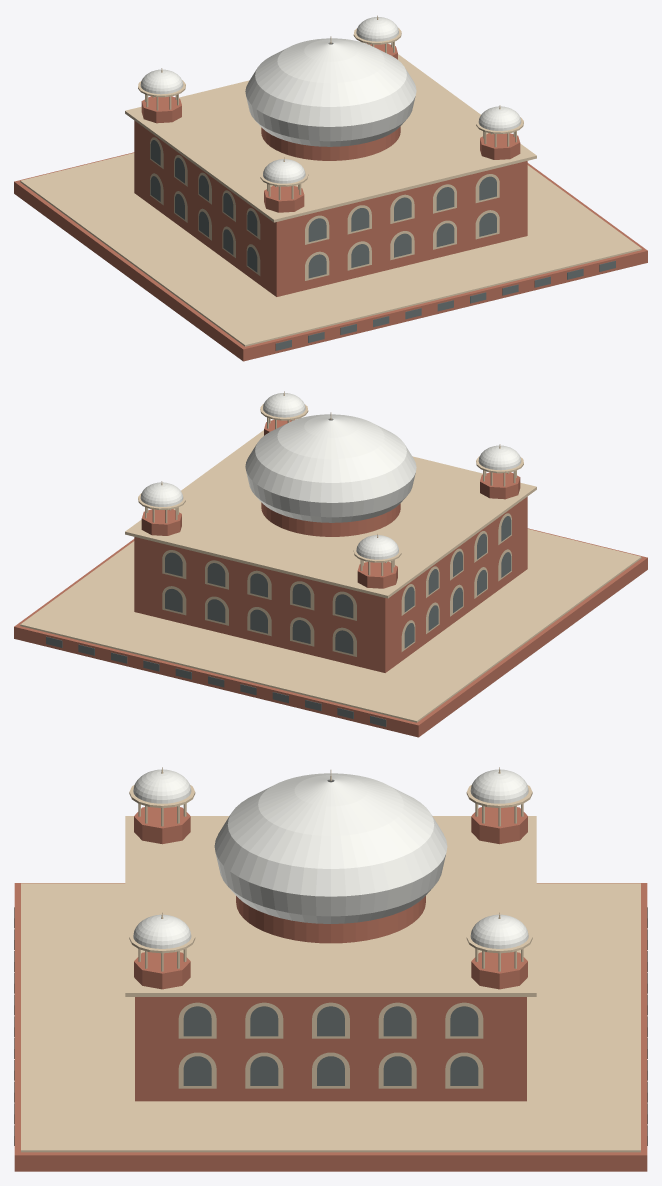
The model's file is humayuns-tomb.glb.
The picture shows the model from 3 angles, top to bottom: view 1: azimuth 30°, elevation 25°; view 2: azimuth 150°, elevation 25°; view 3: azimuth 270°, elevation 25°; orthographic projection. The views are drawn at different scales.
Parts seen in each view (by area): view 1: NCR_humayuns-tomb; view 2: NCR_humayuns-tomb; view 3: NCR_humayuns-tomb.
Boxes of the visible parts, x1,y1,x2,y2 form: NCR_humayuns-tomb: (14, 15, 647, 361); NCR_humayuns-tomb: (14, 391, 647, 737); NCR_humayuns-tomb: (14, 767, 647, 1171).
Size of the model in its own units: 98.12 by 45 by 96.53.
